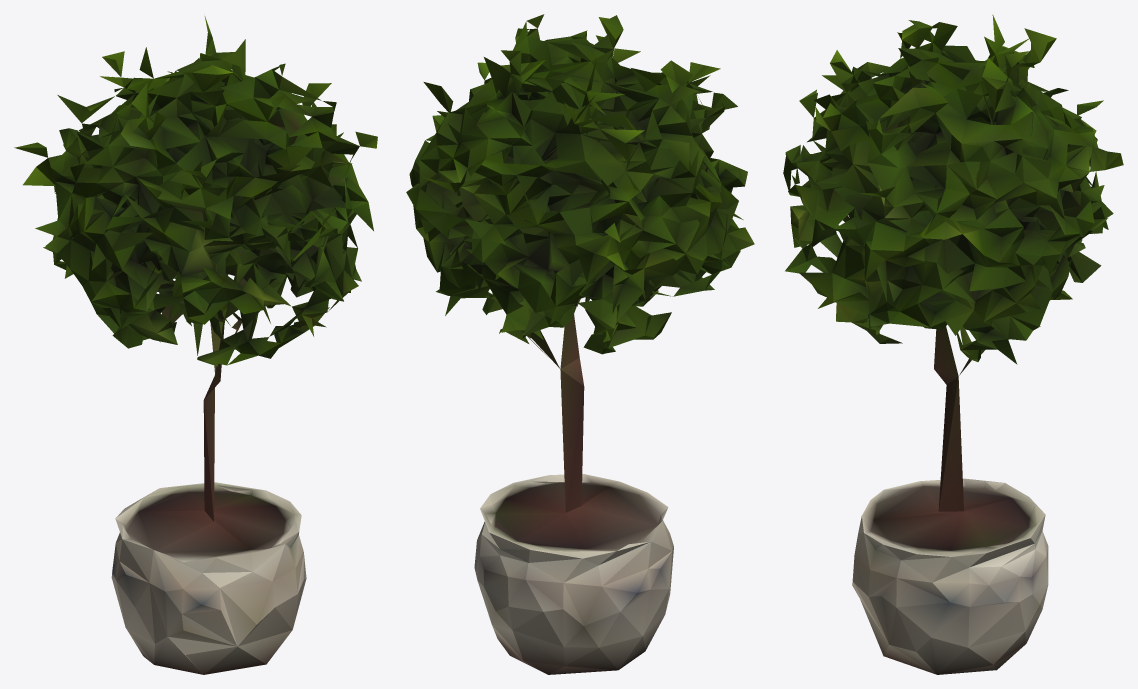
Rendered from lib_tp_camchau.vc.glb.
3 renders of one model, left to right at view 1: azimuth 30°, elevation 25°; view 2: azimuth 150°, elevation 25°; view 3: azimuth 270°, elevation 25°, orthographic. The views are drawn at different scales.
Visible parts, largest first — view 1: lib_tp_camchau; view 2: lib_tp_camchau; view 3: lib_tp_camchau.
Boxes of the visible parts, box(x1,y1,x2,y2) form: lib_tp_camchau: box(14, 16, 377, 674); lib_tp_camchau: box(406, 14, 754, 674); lib_tp_camchau: box(783, 14, 1123, 674).
Bounding box in the file's own units: 0.9201 × 1.86 × 0.9267.
